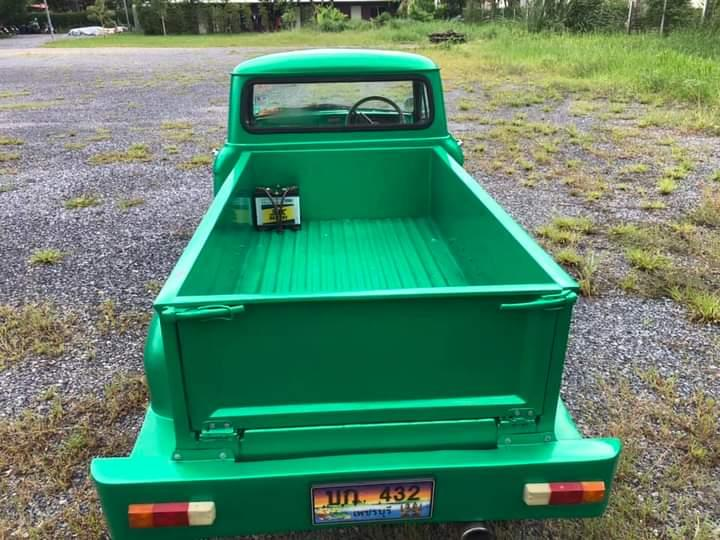license-plate: (309, 478, 439, 528)
